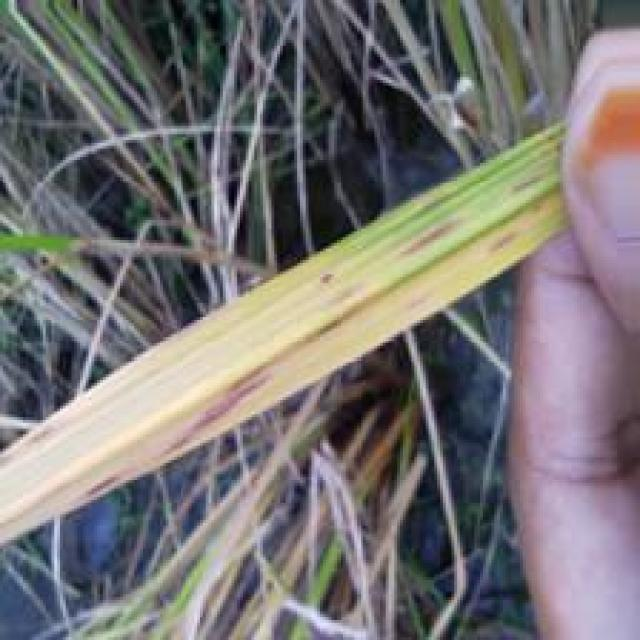Narrow_Brown_Leaf_Spot: (2, 210, 525, 546)
